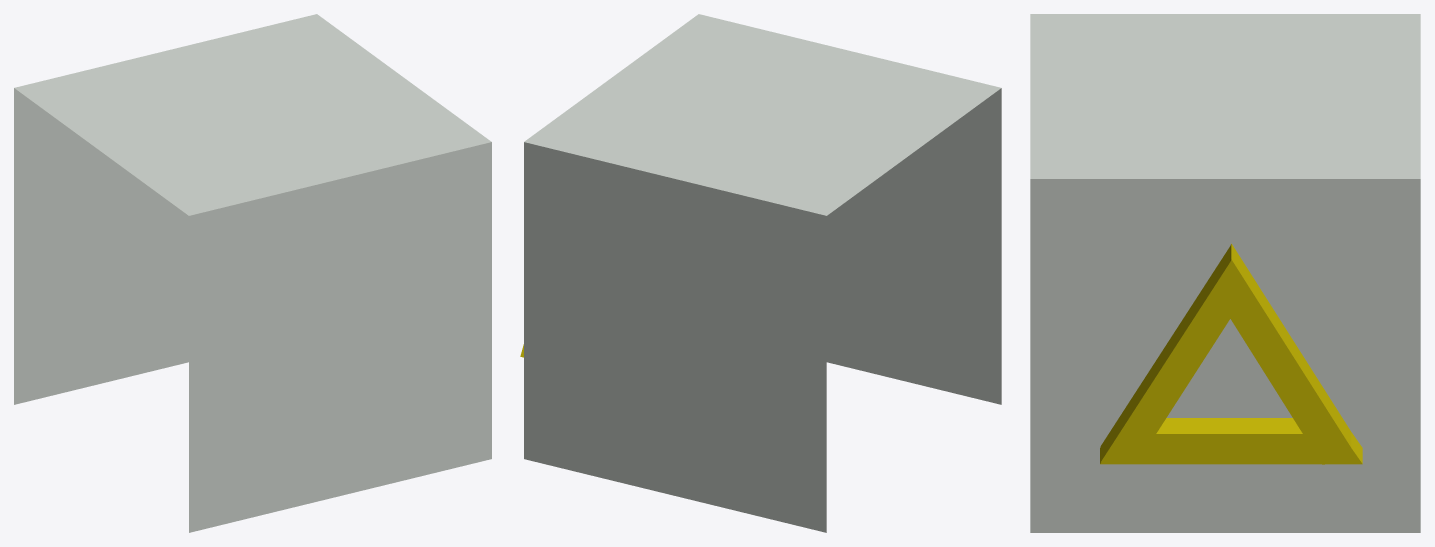
Rendered from tile_triangulo.fbx.
3 renders of one model, left to right at view 1: azimuth 30°, elevation 25°; view 2: azimuth 150°, elevation 25°; view 3: azimuth 270°, elevation 25°, orthographic. The views are drawn at different scales.
Visible parts, largest first — view 1: Cubo.007; view 2: Cubo.007; view 3: Cubo.007, Cubo.009.
Boxes of the visible parts, x1,y1,x2,y2 form: Cubo.007: [14, 14, 491, 532]; Cubo.007: [524, 14, 1001, 532]; Cubo.007: [1030, 14, 1420, 532]; Cubo.009: [1100, 243, 1362, 464].
Bounding box in the file's own units: 220 × 200 × 200.
